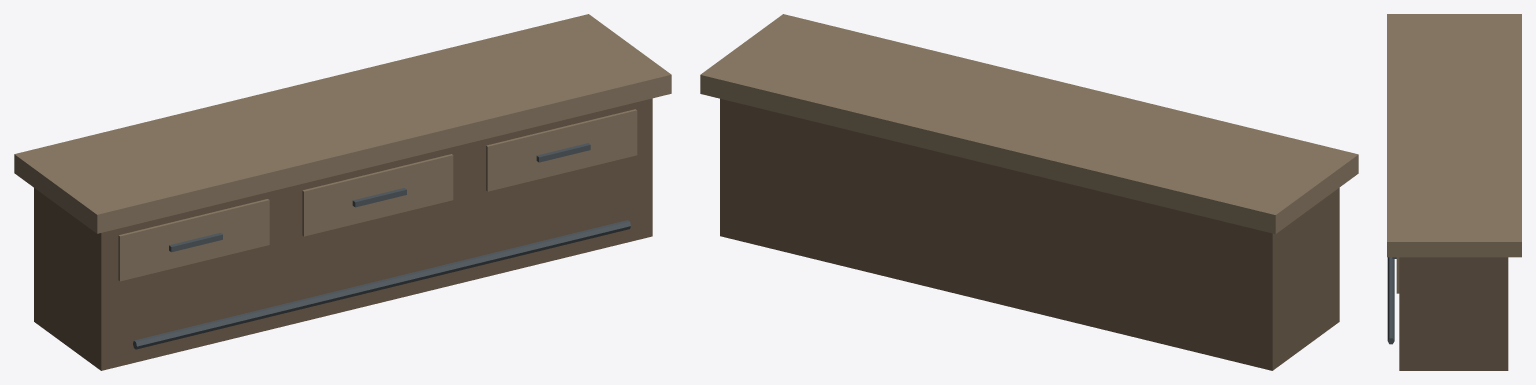
Rendered from service_counter.glb.
The picture shows the model from 3 angles, left to right: view 1: azimuth 30°, elevation 25°; view 2: azimuth 150°, elevation 25°; view 3: azimuth 270°, elevation 25°; orthographic projection. The views are drawn at different scales.
Visible parts, largest first — view 1: service_counter; view 2: service_counter; view 3: service_counter.
Boxes of the visible parts, box(x1,y1,x2,y2) form: service_counter: box(14, 14, 671, 370); service_counter: box(700, 14, 1358, 370); service_counter: box(1387, 14, 1521, 370).
Size of the model in its own units: 3.84 by 1.05 by 0.96.
